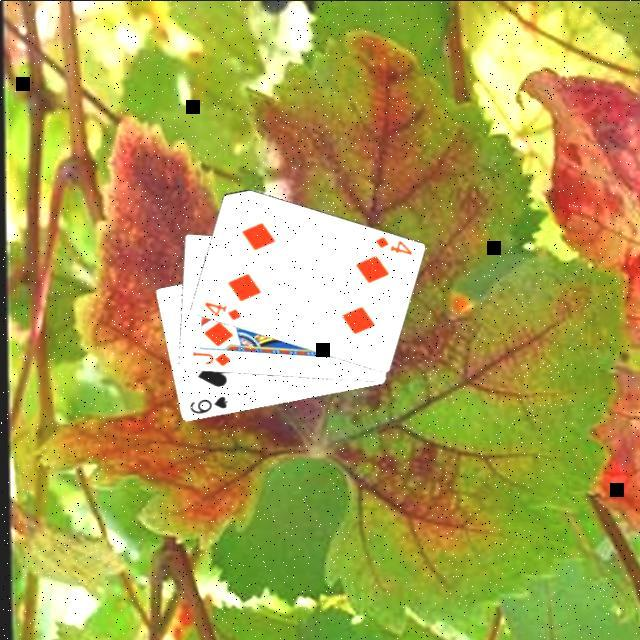4D: (371, 234, 414, 259), (200, 300, 242, 325)
6S: (186, 394, 230, 418)
JD: (189, 350, 233, 371)
